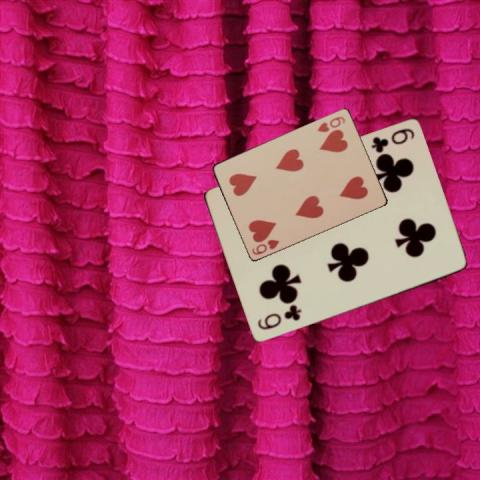6c: (368, 125, 416, 155), (254, 303, 303, 332)
6h: (314, 113, 347, 133), (248, 236, 280, 256)
